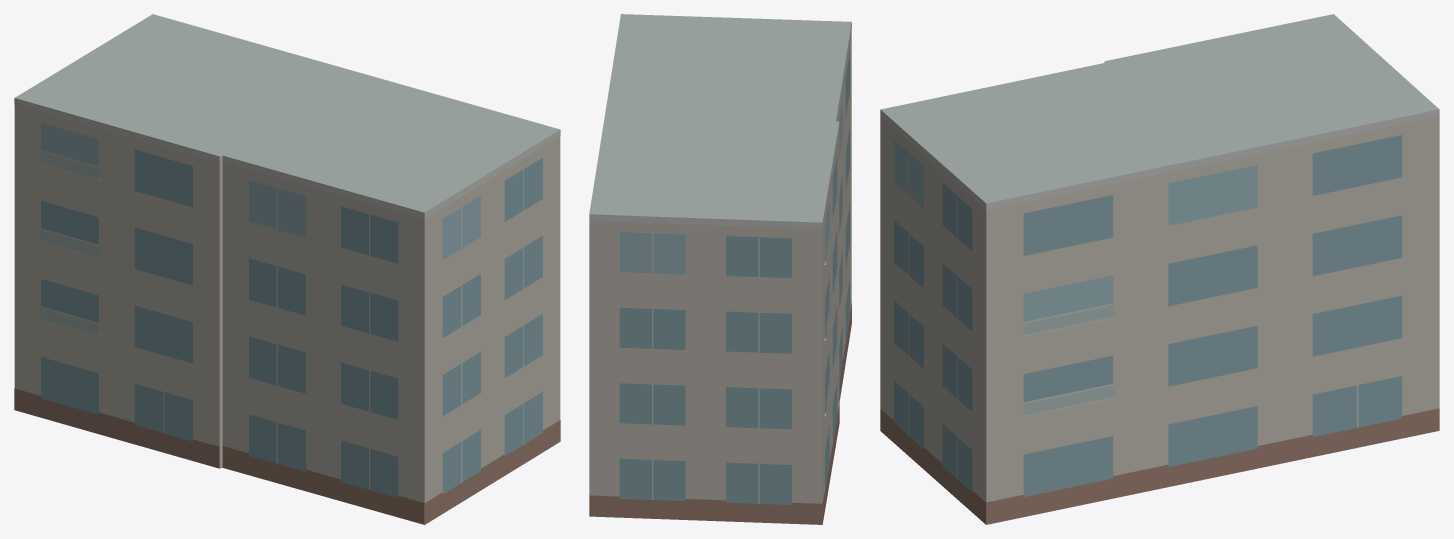
The model's file is survey-upis-32681058.glb.
3 renders of one model, left to right at view 1: azimuth 30°, elevation 25°; view 2: azimuth 150°, elevation 25°; view 3: azimuth 270°, elevation 25°, orthographic. The views are drawn at different scales.
Visible parts, largest first — view 1: survey-upis-32681058.tmp; view 2: survey-upis-32681058.tmp; view 3: survey-upis-32681058.tmp.
Part boxes in pixels (x1=…): survey-upis-32681058.tmp: x1=14, y1=14, x2=560, y2=524; survey-upis-32681058.tmp: x1=589, y1=14, x2=851, y2=524; survey-upis-32681058.tmp: x1=880, y1=14, x2=1439, y2=524.
Bounding box in the file's own units: 14.44 × 11.42 × 18.01.
